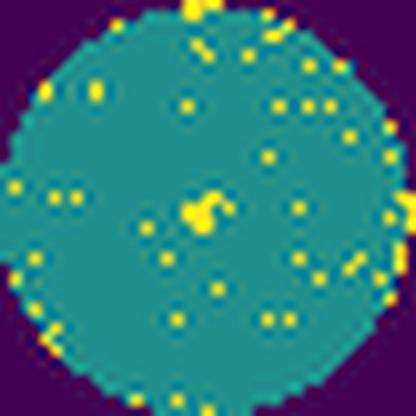Center: (178, 190, 226, 237)
